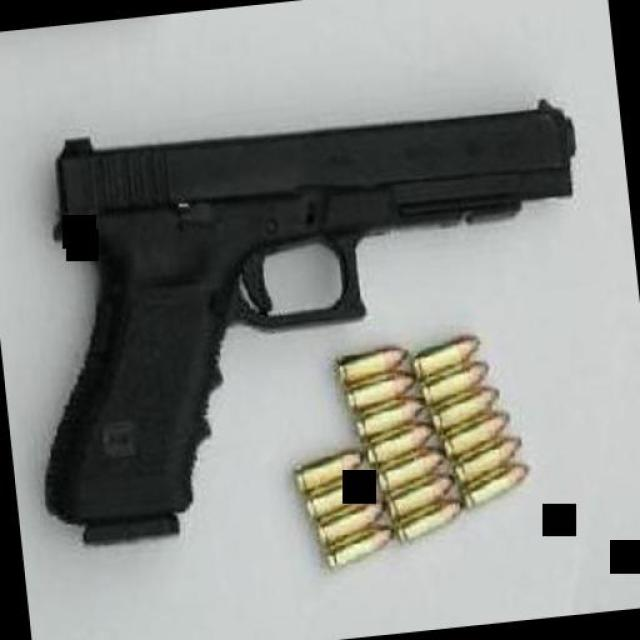gun: (8, 92, 608, 558)
